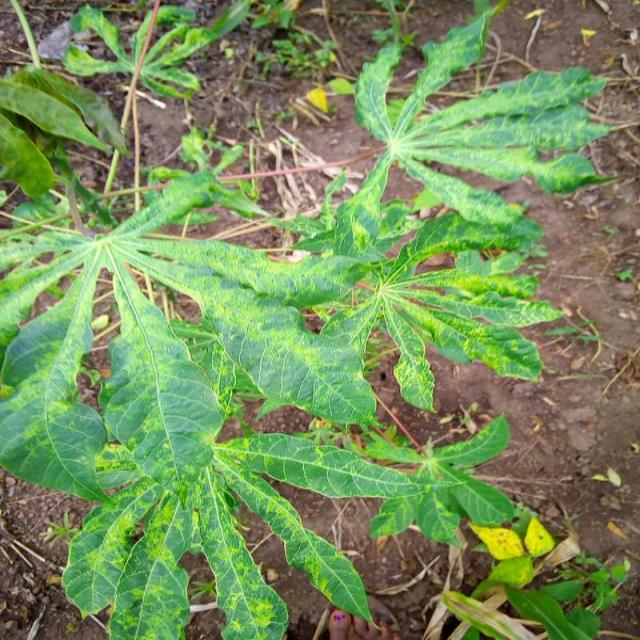cassava leaf: (0, 1, 618, 638)
